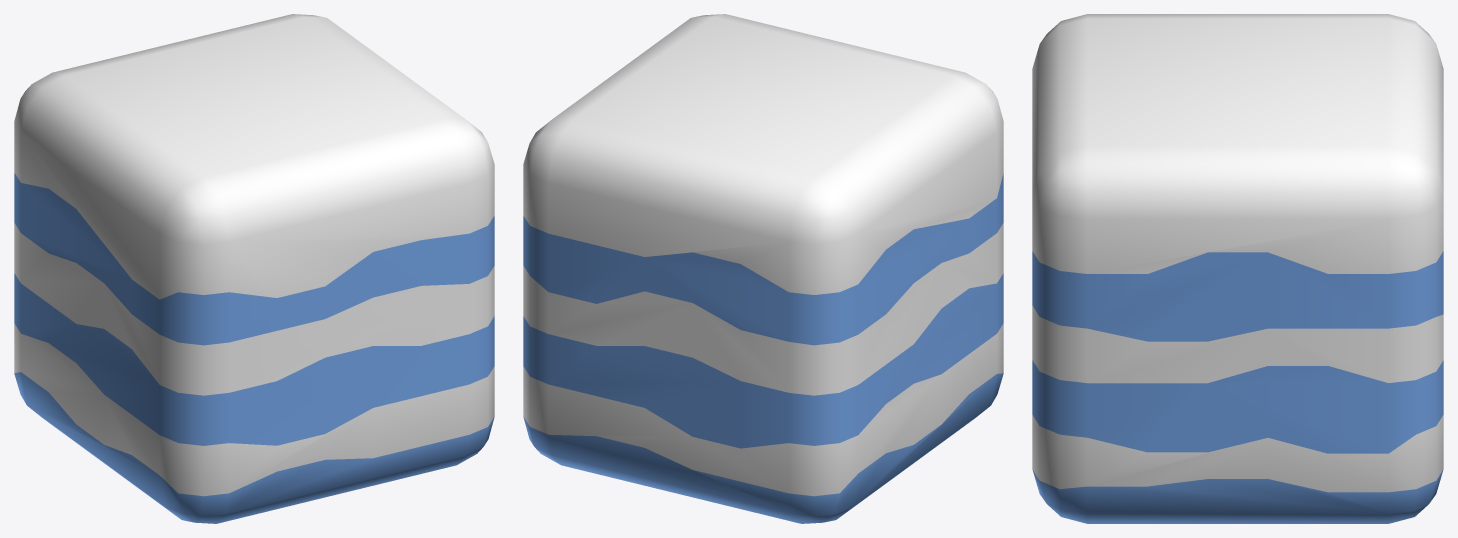
The model's file is Stone017.fbx.
3 renders of one model, left to right at view 1: azimuth 30°, elevation 25°; view 2: azimuth 150°, elevation 25°; view 3: azimuth 270°, elevation 25°, orthographic. The views are drawn at different scales.
Parts seen in each view (by area): view 1: Stone017; view 2: Stone017; view 3: Stone017.
Part boxes in pixels (box(x1,y1,x2,y2)): Stone017: box(14, 14, 494, 523); Stone017: box(523, 14, 1003, 523); Stone017: box(1032, 14, 1443, 523).
Bounding box in the file's own units: 156 × 156 × 156.
